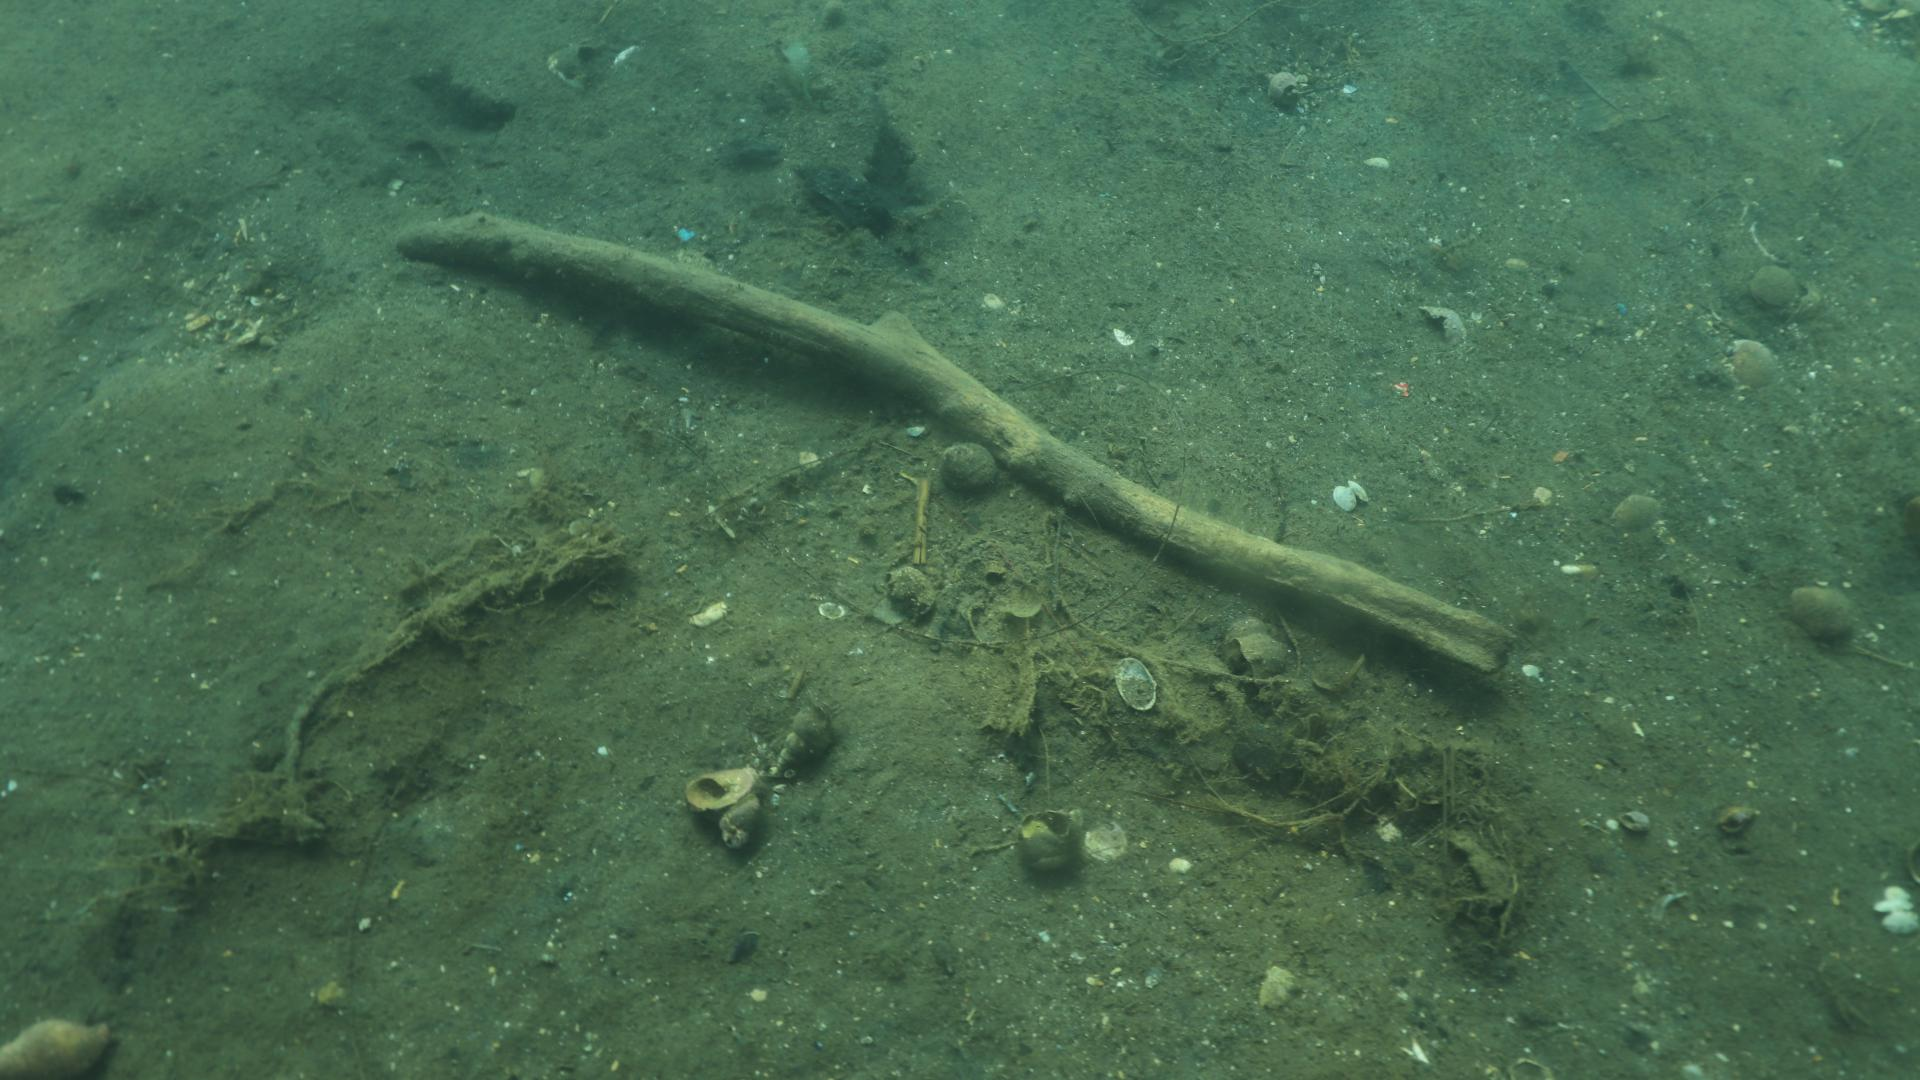wood: (392, 208, 1516, 673)
